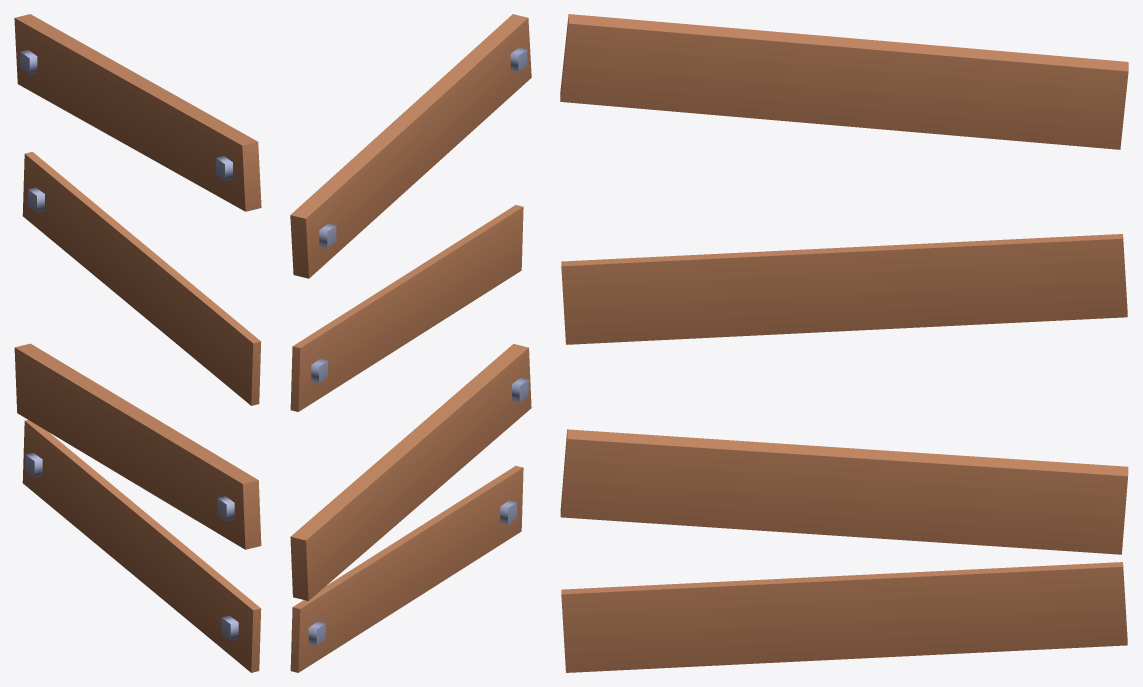
The model's file is barricade-doorway-b.optimized.glb.
3 renders of one model, left to right at view 1: azimuth 30°, elevation 25°; view 2: azimuth 150°, elevation 25°; view 3: azimuth 270°, elevation 25°, orthographic. The views are drawn at different scales.
Visible parts, largest first — view 1: barricade-doorway-b; view 2: barricade-doorway-b; view 3: barricade-doorway-b.
Boxes of the visible parts, x1,y1,x2,y2 form: barricade-doorway-b: (14,14,261,672); barricade-doorway-b: (290,14,531,672); barricade-doorway-b: (560,14,1128,672).
Size of the model in its own units: 0.075 by 1.58 by 1.26.
1 material, 1 textured.
